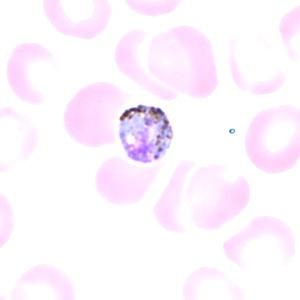Infected: (118, 102, 173, 163)
Uninfected: (147, 27, 220, 99), (114, 27, 180, 101), (187, 163, 252, 232), (64, 82, 126, 149), (222, 215, 296, 271), (243, 103, 300, 173), (94, 146, 159, 206), (6, 43, 60, 104), (42, 0, 114, 39), (13, 263, 75, 300)
